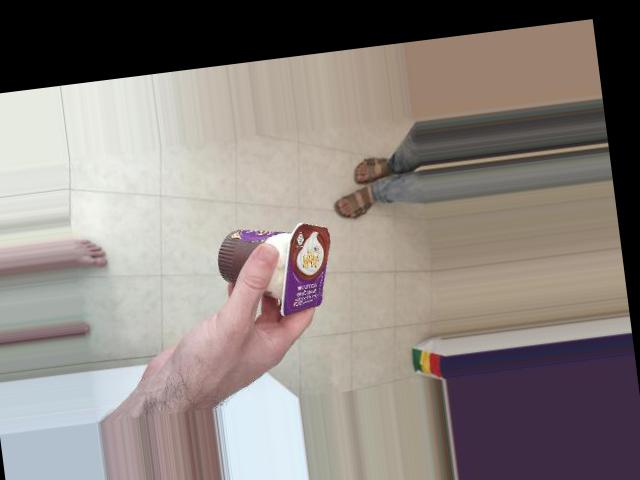milky: (246, 160, 346, 299)
